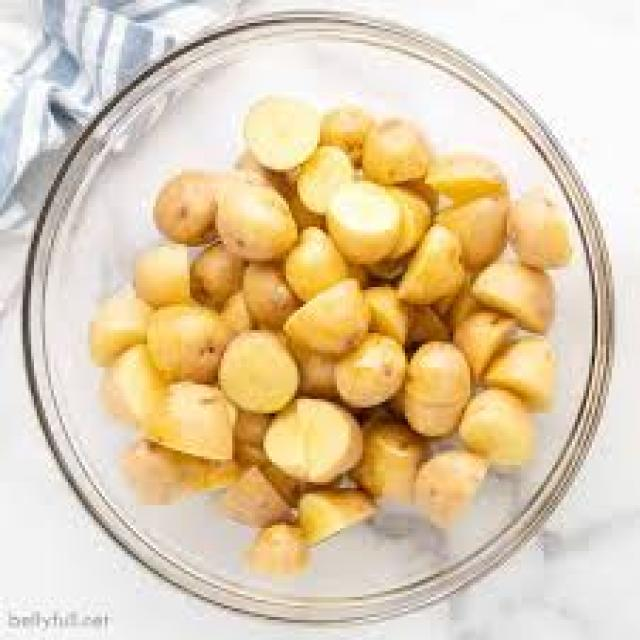Potato: (231, 82, 344, 194), (258, 389, 362, 480), (268, 280, 388, 358), (146, 378, 240, 468), (202, 171, 296, 259), (344, 401, 429, 497), (394, 218, 480, 311), (326, 334, 416, 421), (467, 248, 562, 329), (413, 141, 516, 213), (208, 326, 299, 407), (325, 180, 400, 277), (142, 172, 238, 247), (451, 378, 533, 463), (474, 335, 562, 410), (216, 465, 308, 536), (356, 111, 435, 193), (398, 336, 459, 442), (284, 483, 386, 546), (291, 136, 369, 217), (448, 307, 512, 390), (235, 248, 304, 324), (275, 228, 355, 292), (127, 244, 206, 304), (246, 514, 317, 569)
